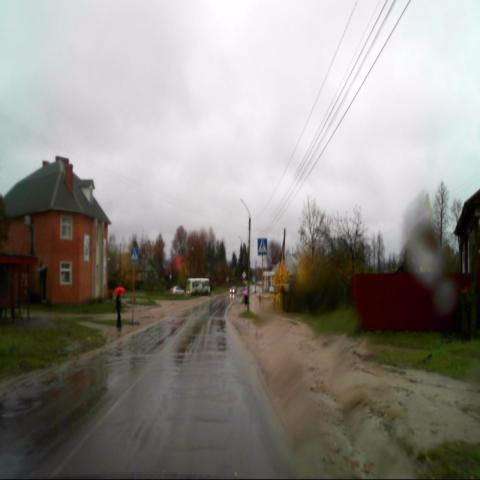5_19_1: (257, 238, 267, 255)
